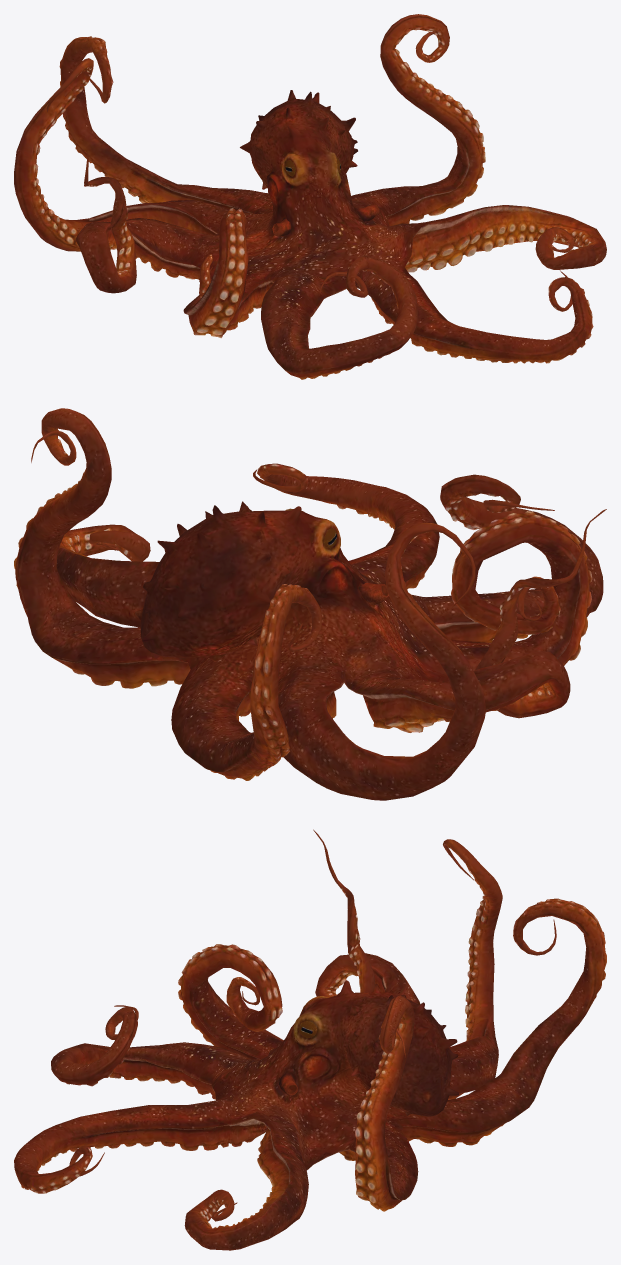
File: octopus_lod1.glb
3 views of the same model, one above another, from view 1: azimuth 30°, elevation 25°; view 2: azimuth 150°, elevation 25°; view 3: azimuth 270°, elevation 25° (orthographic). The views are drawn at different scales.
Visible parts, largest first — view 1: octopus.1; view 2: octopus.1; view 3: octopus.1.
Part boxes in pixels (<box>): octopus.1: <box>14,14,606,379</box>; octopus.1: <box>14,408,606,800</box>; octopus.1: <box>14,829,606,1250</box>.
Bounding box in the file's own units: 0.0778 × 0.0333 × 0.0828.
Materials: 1 (1 with a texture image).
